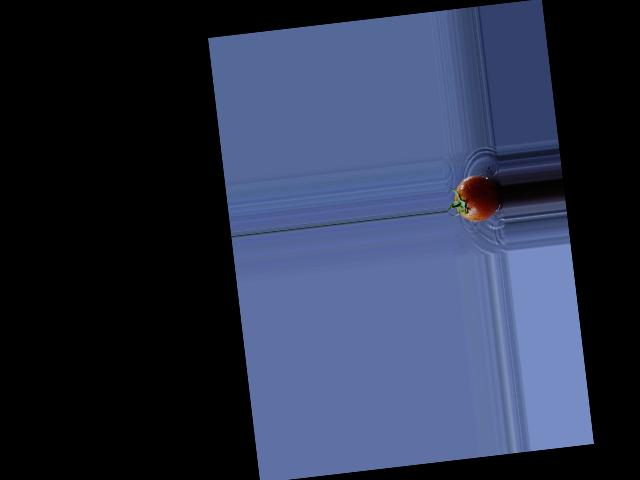tomato: (453, 173, 502, 223)
